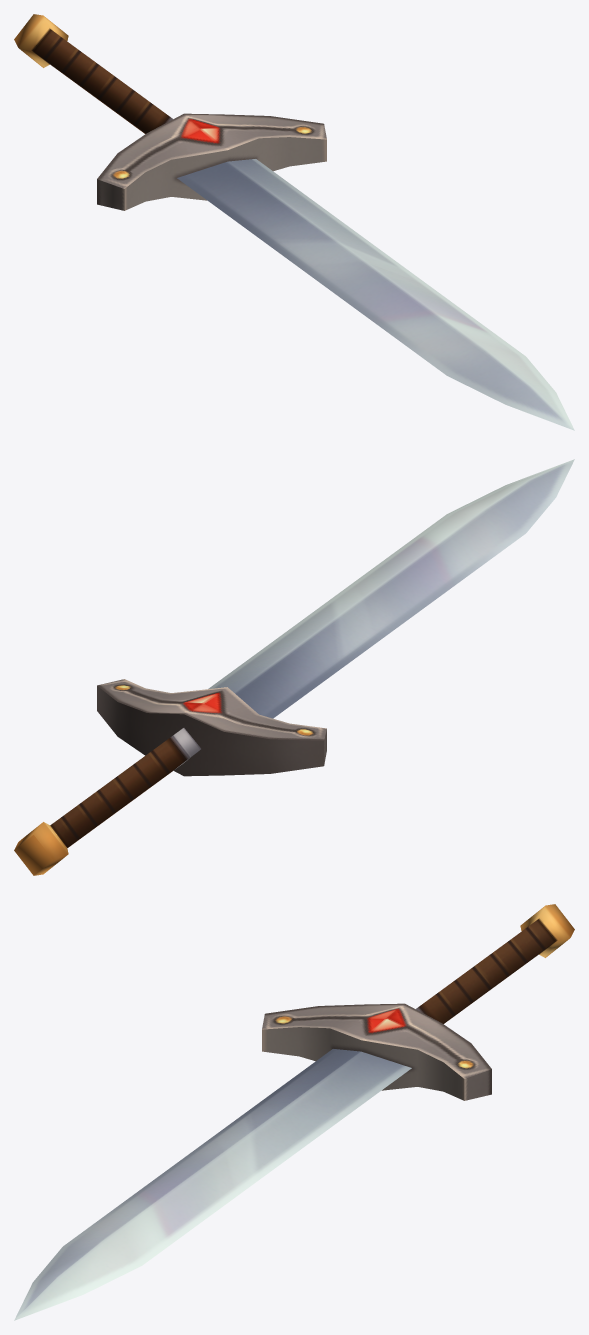
The model's file is eqp_wpn_swordman.FBX.
3 views of the same model, one above another, from view 1: azimuth 30°, elevation 25°; view 2: azimuth 150°, elevation 25°; view 3: azimuth 330°, elevation 25° (orthographic).
Parts seen in each view (by area): view 1: eqp_wpn_swordman; view 2: eqp_wpn_swordman; view 3: eqp_wpn_swordman.
Part boxes in pixels (x1,y1,x2,y2): eqp_wpn_swordman: [14, 14, 574, 430]; eqp_wpn_swordman: [14, 459, 574, 875]; eqp_wpn_swordman: [14, 904, 574, 1320].
Bounding box in the file's own units: 0.2192 × 0.0572 × 0.9047.
